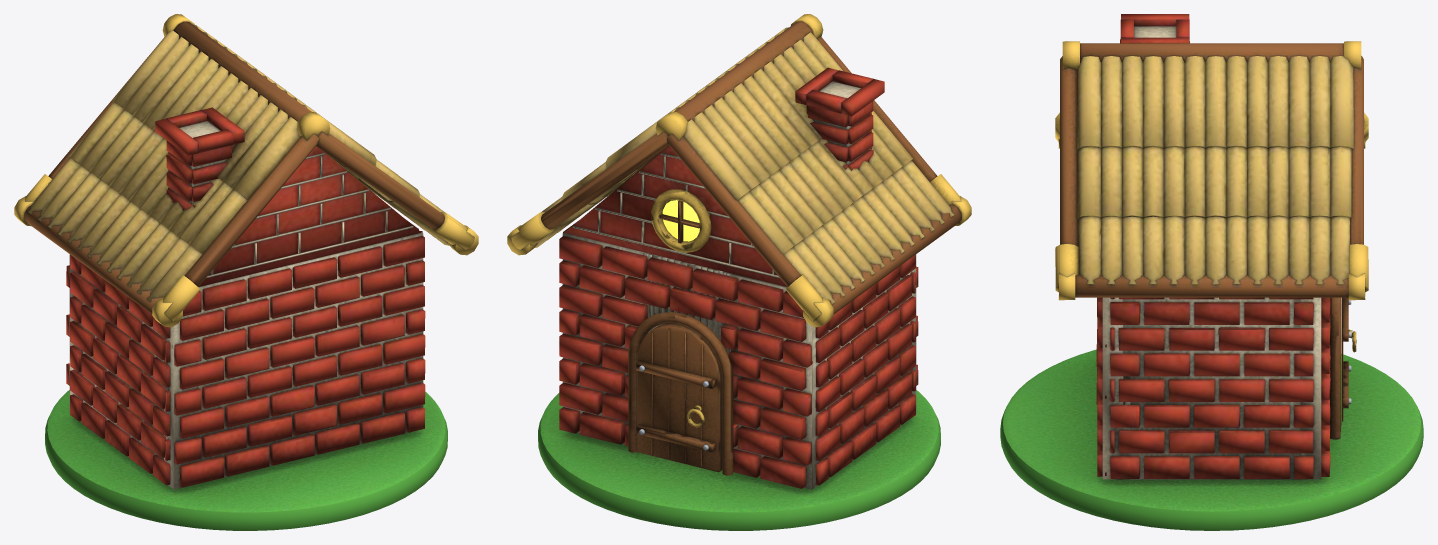
3 renders of one model, left to right at view 1: azimuth 30°, elevation 25°; view 2: azimuth 150°, elevation 25°; view 3: azimuth 270°, elevation 25°, orthographic. The views are drawn at different scales.
Parts seen in each view (by area): view 1: Clay_brick_red, Golden_straw, Meadow_green, Warm_cream_mortar, Sanded_timber, Polished_golden_details; view 2: Clay_brick_red, Golden_straw, Sanded_timber, Meadow_green, Warm_cream_mortar, Polished_golden_details, glow_Warm_interior_light; view 3: Golden_straw, Clay_brick_red, Meadow_green, Sanded_timber, Warm_cream_mortar, Polished_golden_details.
Boxes of the visible parts, box(x1,y1,x2,y2) form: Clay_brick_red: box(66, 107, 425, 487); Golden_straw: box(27, 25, 449, 301); Meadow_green: box(45, 390, 447, 530); Warm_cream_mortar: box(69, 121, 423, 489); Sanded_timber: box(24, 21, 444, 314); Polished_golden_details: box(14, 14, 478, 327); Clay_brick_red: box(559, 67, 918, 488); Golden_straw: box(534, 27, 954, 304); Sanded_timber: box(541, 21, 961, 475); Meadow_green: box(538, 390, 940, 530); Warm_cream_mortar: box(562, 81, 916, 489); Polished_golden_details: box(507, 14, 971, 427); glow_Warm_interior_light: box(662, 200, 699, 241); Golden_straw: box(1077, 56, 1353, 284); Clay_brick_red: box(1096, 14, 1330, 478); Meadow_green: box(1000, 349, 1423, 530); Sanded_timber: box(1060, 43, 1363, 479); Warm_cream_mortar: box(1102, 26, 1321, 479); Polished_golden_details: box(1055, 41, 1368, 352).
Size of the model in its own units: 2.24 by 2.35 by 2.24.
8 materials, 7 textured.
